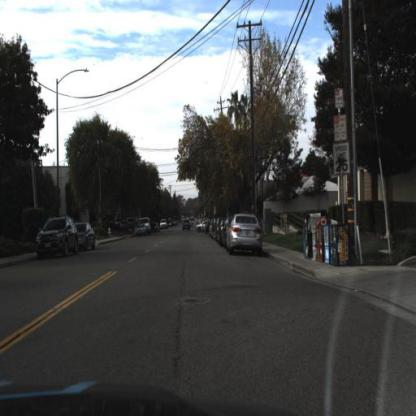car: (36, 215, 79, 260), (228, 216, 264, 256), (78, 220, 98, 256), (124, 217, 142, 236)
